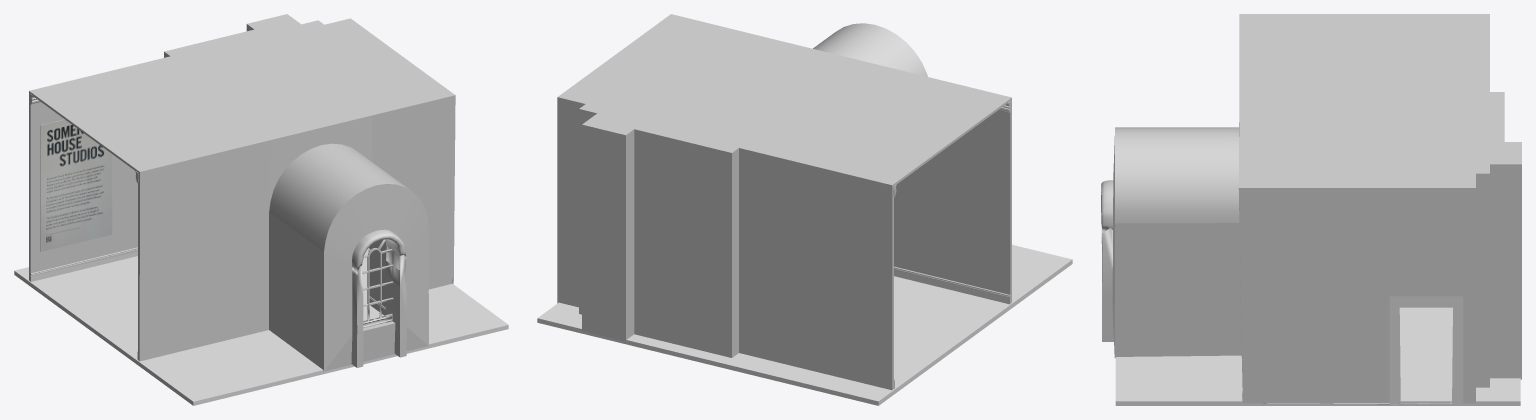
File: FOYER.fbx
The picture shows the model from 3 angles, left to right: view 1: azimuth 30°, elevation 25°; view 2: azimuth 150°, elevation 25°; view 3: azimuth 270°, elevation 25°; orthographic projection. The views are drawn at different scales.
Visible parts, largest first — view 1: foyer; view 2: foyer; view 3: foyer.
Part boxes in pixels (x1=…): foyer: x1=14, y1=14, x2=508, y2=405; foyer: x1=537, y1=14, x2=1072, y2=405; foyer: x1=1101, y1=14, x2=1521, y2=405.
Size of the model in its own units: 2618 by 1530 by 2667.
